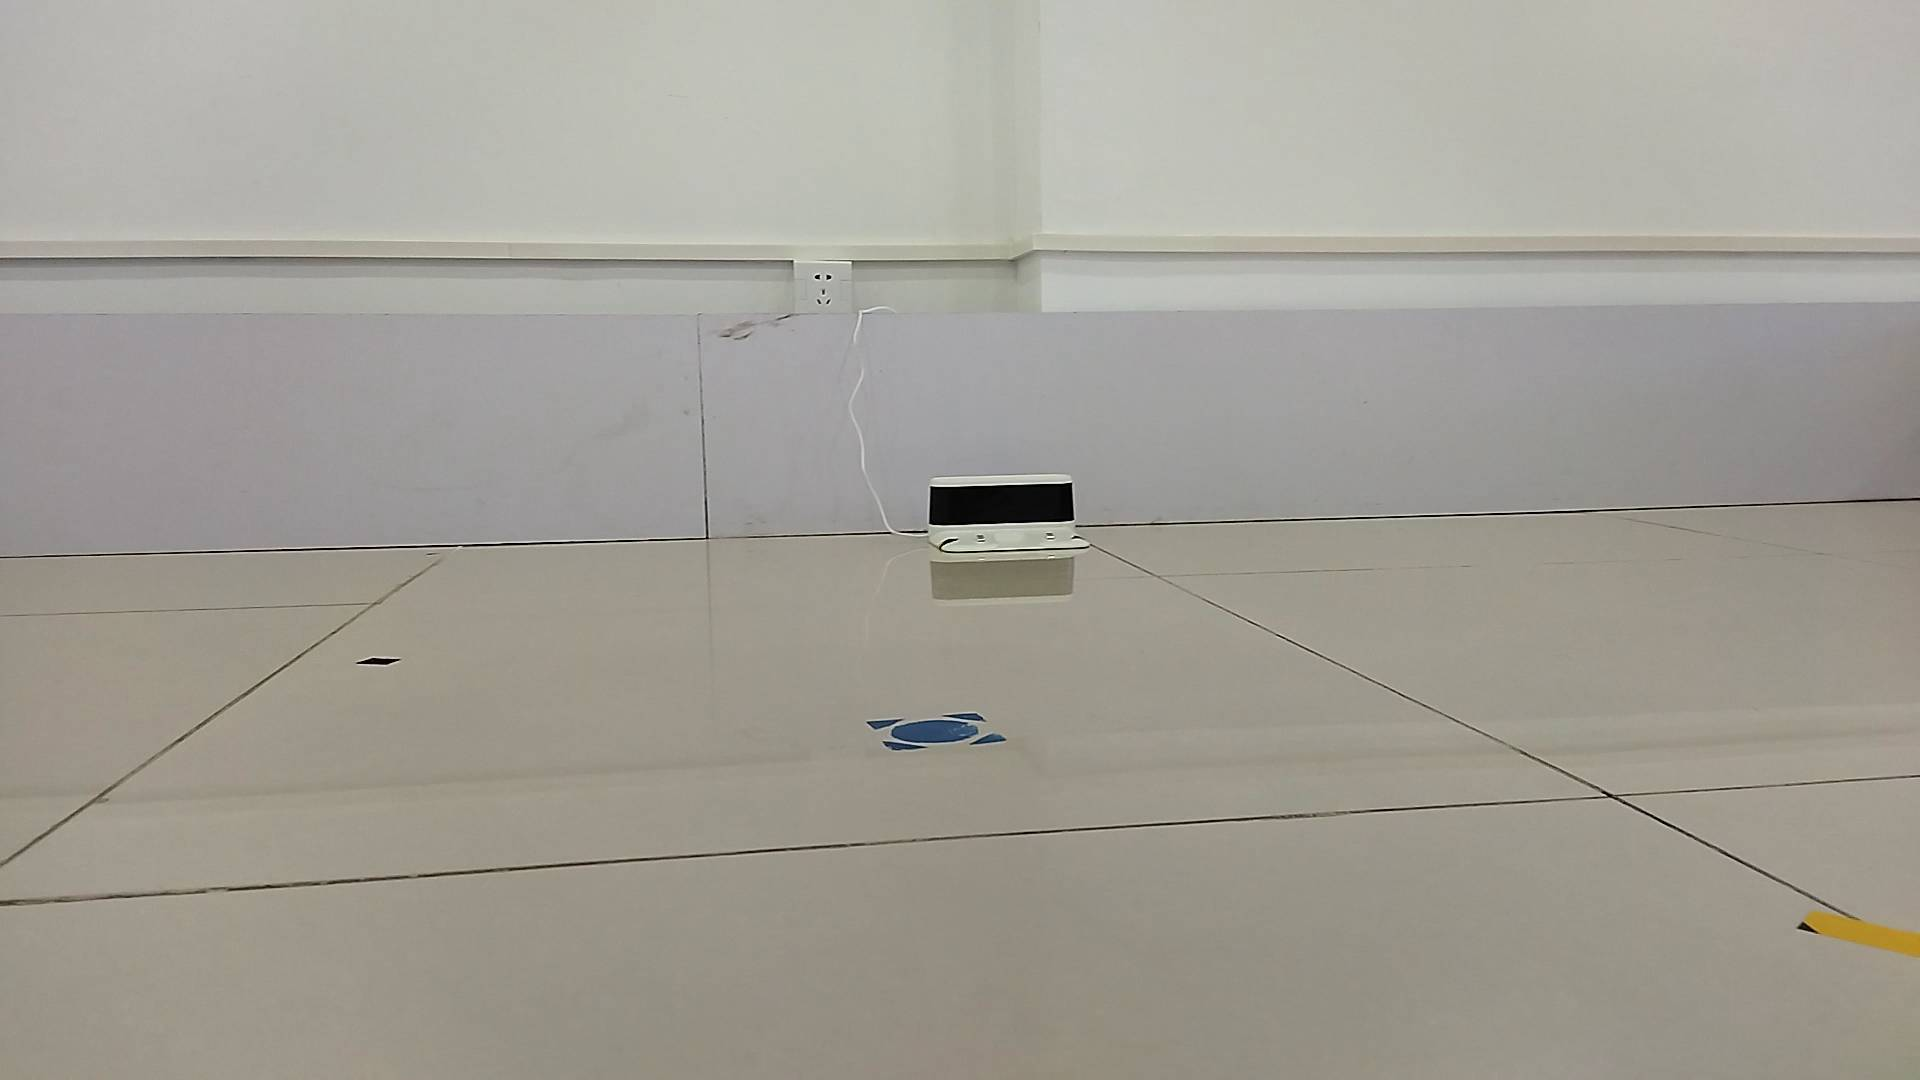recharge seat: (923, 473, 1100, 553)
